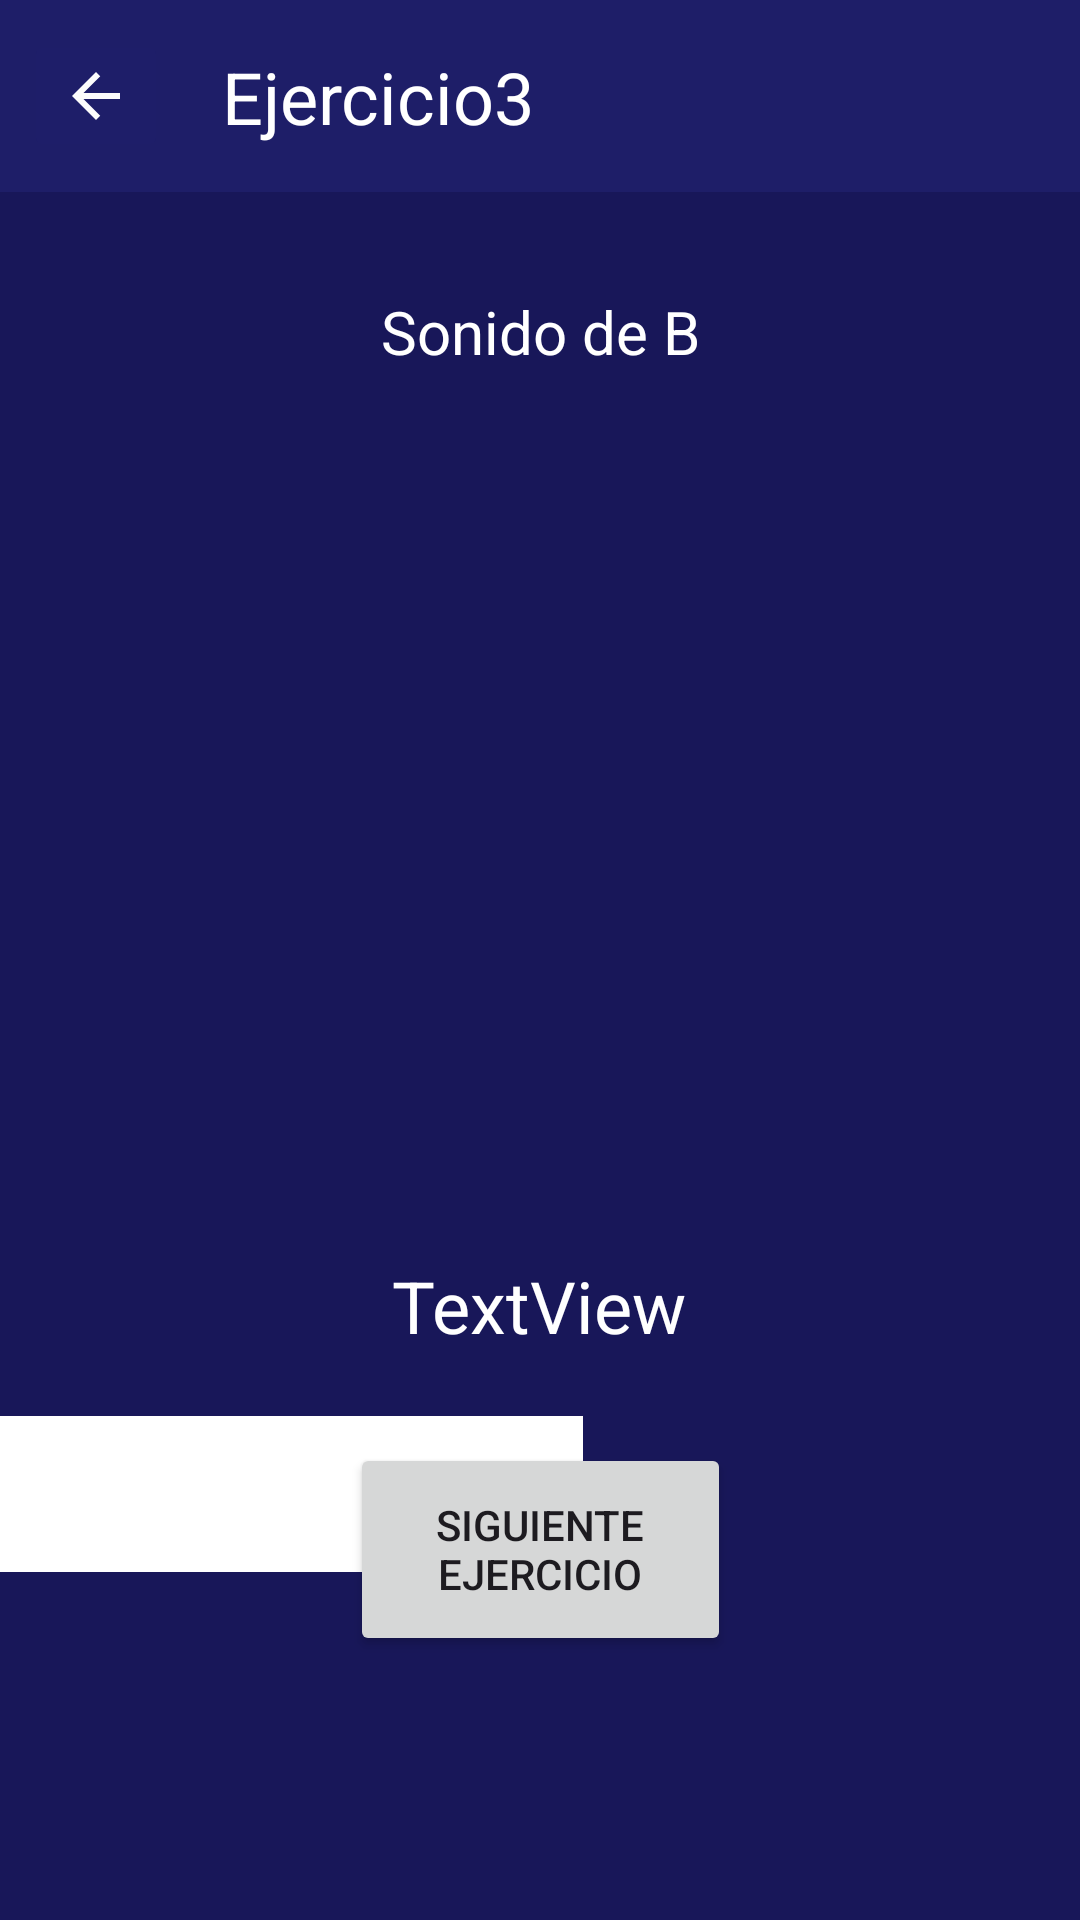

Icon click points for this 1080px×1920px phone screenshot, format [x,y]:
arrow back: [96,96]
